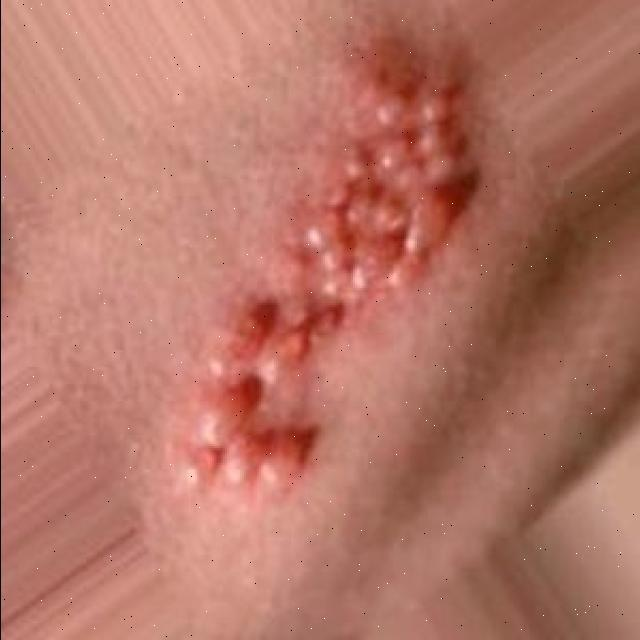Shingles: (177, 93, 465, 492)
